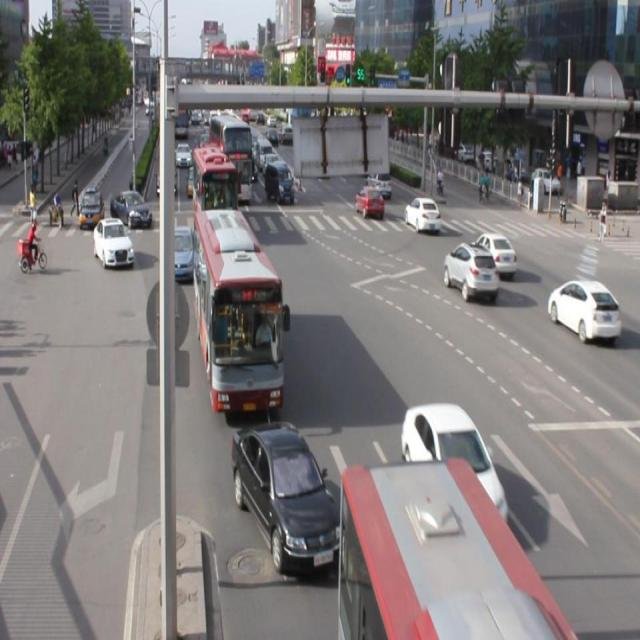car: (230, 422, 346, 570), (400, 402, 507, 530), (546, 276, 620, 340), (442, 240, 497, 300), (165, 223, 198, 282), (471, 231, 517, 273), (403, 196, 440, 231)
van: (341, 463, 576, 640), (194, 208, 284, 412)
